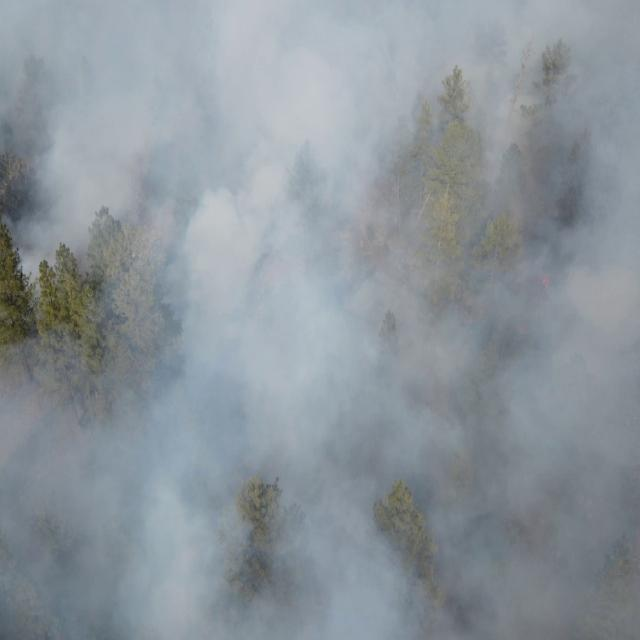fire: (534, 265, 554, 293)
smoke: (2, 0, 640, 640)
